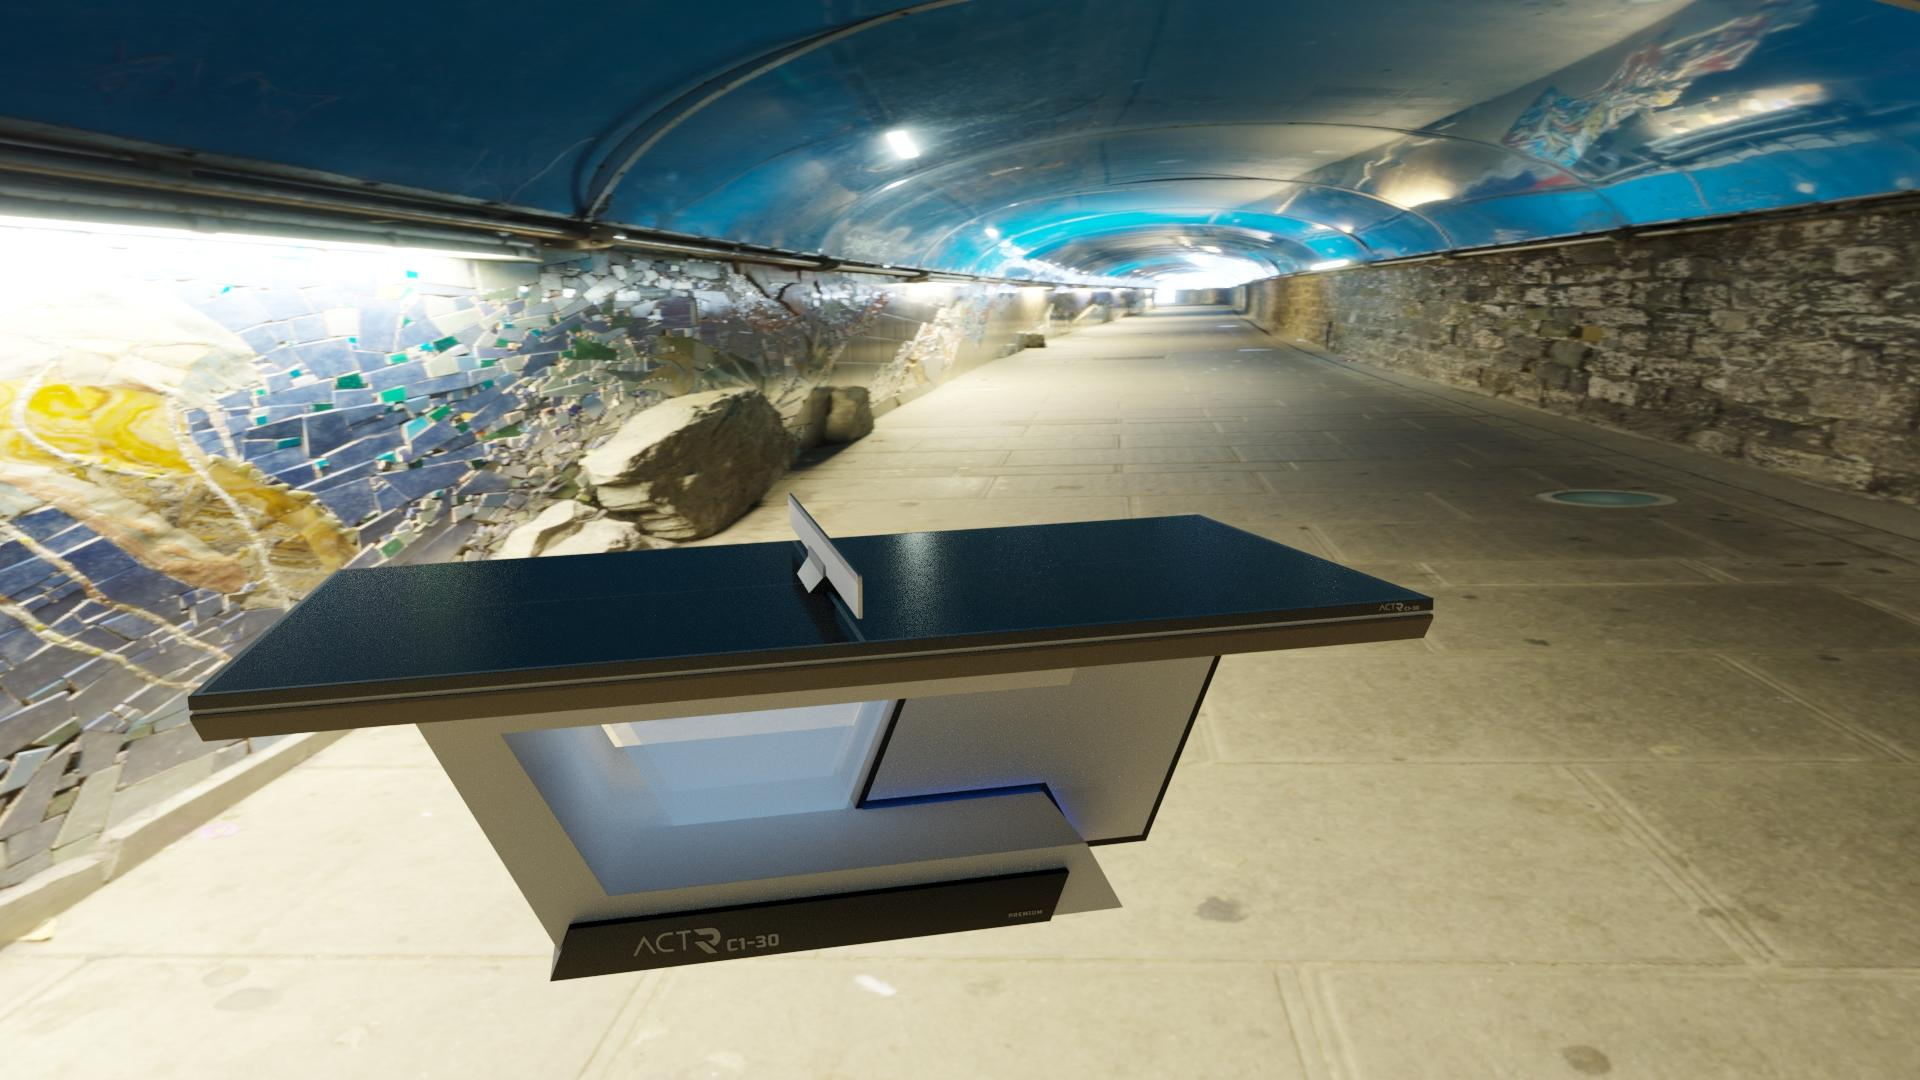table: (200, 516, 1422, 694)
